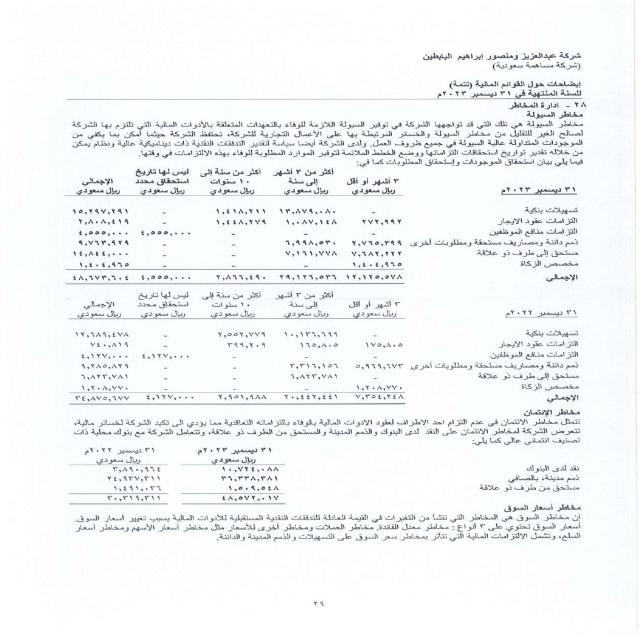notes: (436, 78, 584, 92)
table: (44, 164, 429, 286), (70, 292, 403, 413), (44, 441, 309, 509)
